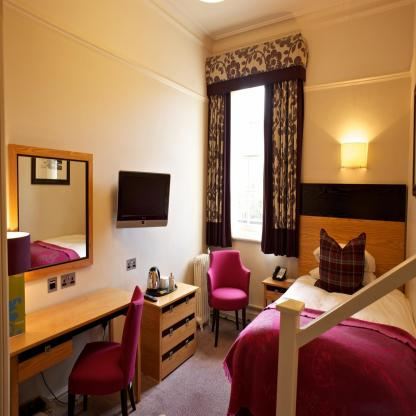other: (323, 108, 381, 161)
